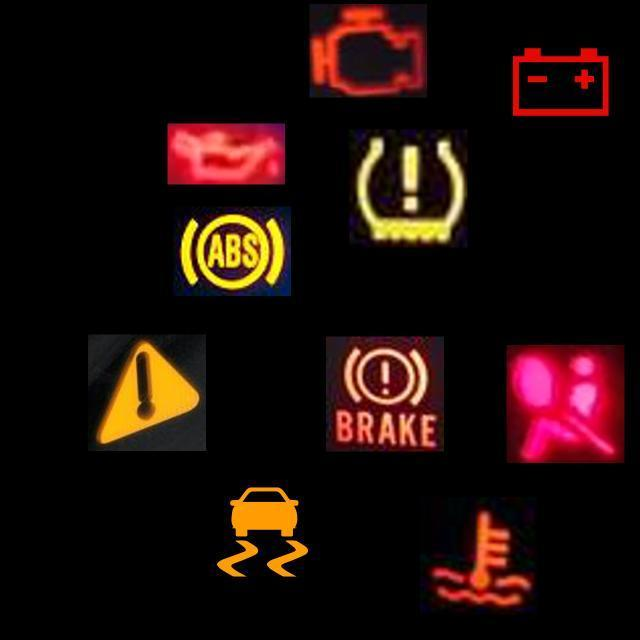Central Warning lamp: (88, 334, 206, 452)
Engine cooling system: (420, 497, 538, 615)
